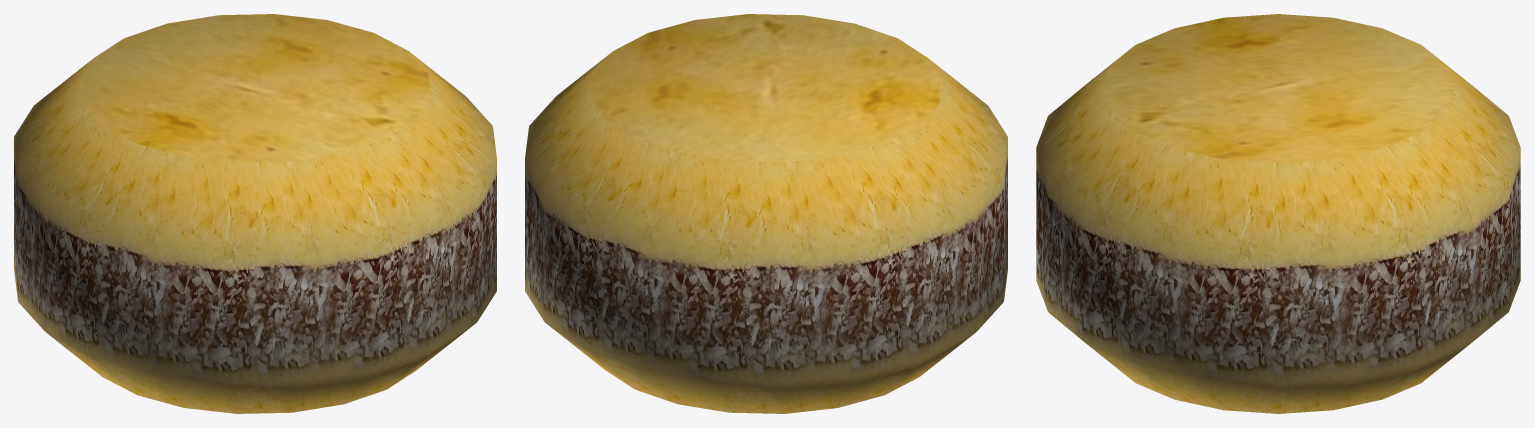
Rendered from AlfajorDeMaizena.glb.
3 views of the same model, side by side, from view 1: azimuth 30°, elevation 25°; view 2: azimuth 150°, elevation 25°; view 3: azimuth 270°, elevation 25° (orthographic).
Parts seen in each view (by area): view 1: AlfajorDeMaizenaLowPoly; view 2: AlfajorDeMaizenaLowPoly; view 3: AlfajorDeMaizenaLowPoly.
Part boxes in pixels (x1,y1,x2,y2): AlfajorDeMaizenaLowPoly: (14,14,496,413); AlfajorDeMaizenaLowPoly: (525,14,1007,413); AlfajorDeMaizenaLowPoly: (1036,14,1520,413).
Bounding box in the file's own units: 0.1984 × 0.1133 × 0.1984.
1 material, 1 textured.
